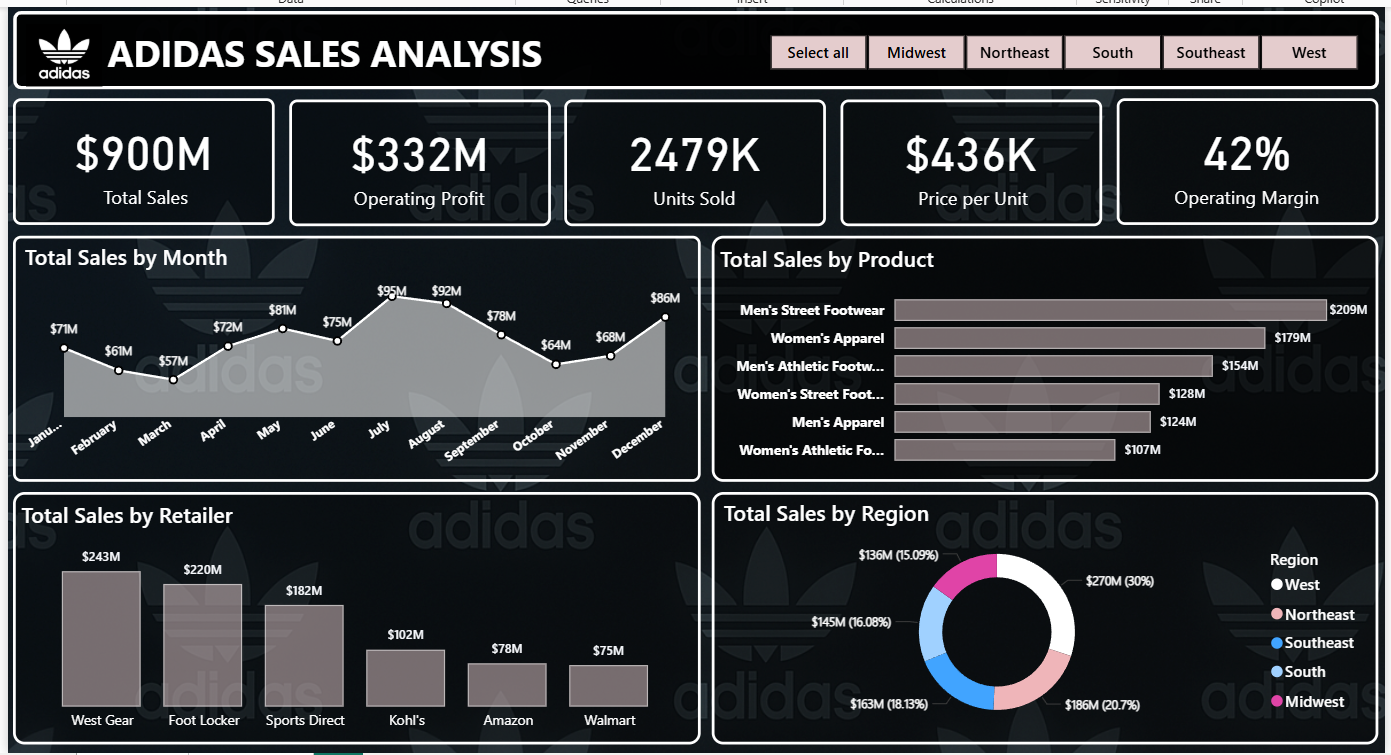

The page's visual inventory and layout, read from the dashboard file:
{"tool":"powerbi","page":{"name":"Dashboard","canvas":[1200,650],"ordinal":1},"visuals":[{"type":"shape","box":[4.4,3.3,1190.4,68.7],"z":0},{"type":"areaChart","title":"Total Sales by Month","fields":{"Category":["Table 1 (Data Sales Adidas).Invoice Date.Variation.Date Hierarchy.Month"],"Y":["Sum(Table 1 (Data Sales Adidas).Total Sales)"]},"box":[4.4,199.3,599,214.6],"z":2000},{"type":"card","fields":{"Values":["Sum(Table 1 (Data Sales Adidas).Total Sales)"]},"box":[4.3,80.2,228,110],"z":3000,"group":"g1"},{"type":"group","id":"g1","title":"Group 1","box":[4.3,79.7,1190.2,111.2],"z":4000},{"type":"card","fields":{"Values":["Sum(Table 1 (Data Sales Adidas).Operating Profit)"]},"box":[244.9,80.8,228,110.1],"z":4000,"group":"g1"},{"type":"card","fields":{"Values":["Sum(Table 1 (Data Sales Adidas).Units Sold)"]},"box":[485.1,80.8,228,110.1],"z":5000,"group":"g1"},{"type":"donutChart","title":"Total Sales by Region","fields":{"Category":["Table 1 (Data Sales Adidas).Region"],"Y":["Sum(Table 1 (Data Sales Adidas).Total Sales)"]},"box":[612.6,423,581,220.2],"z":5000},{"type":"card","fields":{"Values":["Sum(Table 1 (Data Sales Adidas).Price per Unit)"]},"box":[725.3,80.8,228,110.1],"z":6000,"group":"g1"},{"type":"barChart","title":"Total Sales by Product","fields":{"Category":["Table 1 (Data Sales Adidas).Product"],"Y":["Sum(Table 1 (Data Sales Adidas).Total Sales)"]},"box":[613.2,199.3,580.5,214.6],"z":6000},{"type":"card","fields":{"Values":["Avg(Table 1 (Data Sales Adidas).Operating Margin)"]},"box":[966.5,79.7,228,110.1],"z":7000,"group":"g1"},{"type":"clusteredColumnChart","title":"Total Sales by Retailer","fields":{"Category":["Table 1 (Data Sales Adidas).Retailer"],"Y":["Sum(Table 1 (Data Sales Adidas).Total Sales)"]},"box":[4.4,423,599.6,220.2],"z":7000},{"type":"image","box":[10.9,7.7,76.2,69.3],"z":8001,"group":"g2"},{"type":"textbox","box":[81.8,13.1,412.1,57.8],"z":8501,"group":"g2"},{"type":"group","id":"g2","title":"Group 2","box":[10.9,7.7,482.9,69.3],"z":9002},{"type":"slicer","fields":{"Values":["Table 1 (Data Sales Adidas).Region"]},"box":[637.7,17.4,561.4,43.6],"z":9502}]}

Visuals, with their boxes in screenshot pixels (x1, y1, x2, y2):
shape: x1=16, y1=7, x2=1377, y2=86
"Total Sales by Month" areaChart: x1=16, y1=231, x2=701, y2=477
card - Sum(Table 1 (Data Sales Adidas).Total Sales): x1=16, y1=95, x2=276, y2=221
"Group 1" group: x1=16, y1=95, x2=1376, y2=222
card - Sum(Table 1 (Data Sales Adidas).Operating Profit): x1=291, y1=96, x2=551, y2=222
card - Sum(Table 1 (Data Sales Adidas).Units Sold): x1=565, y1=96, x2=826, y2=222
"Total Sales by Region" donutChart: x1=711, y1=487, x2=1375, y2=739
card - Sum(Table 1 (Data Sales Adidas).Price per Unit): x1=840, y1=96, x2=1101, y2=222
"Total Sales by Product" barChart: x1=712, y1=231, x2=1375, y2=477
card - Avg(Table 1 (Data Sales Adidas).Operating Margin): x1=1116, y1=95, x2=1376, y2=221
"Total Sales by Retailer" clusteredColumnChart: x1=16, y1=487, x2=701, y2=739
image: x1=23, y1=12, x2=110, y2=92
textbox: x1=104, y1=19, x2=575, y2=85
"Group 2" group: x1=23, y1=12, x2=575, y2=92
slicer - Table 1 (Data Sales Adidas).Region: x1=740, y1=24, x2=1382, y2=73
